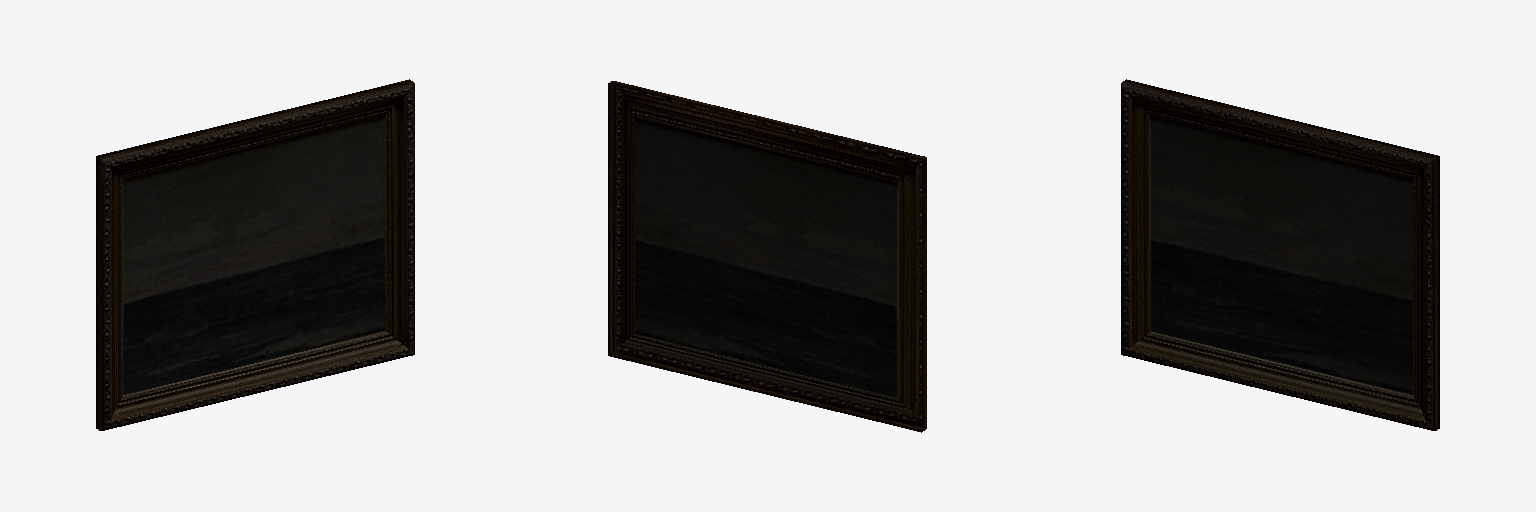
3 views of the same model, side by side, from view 1: azimuth 30°, elevation 25°; view 2: azimuth 150°, elevation 25°; view 3: azimuth 330°, elevation 25° (orthographic).
Parts seen in each view (by area): view 1: painting_4; view 2: painting_4; view 3: painting_4.
Boxes of the visible parts, x1=… form: painting_4: x1=96, y1=79, x2=414, y2=430; painting_4: x1=608, y1=81, x2=926, y2=432; painting_4: x1=1121, y1=79, x2=1439, y2=430.
Size of the model in its own units: 1.09 by 0.9 by 0.0383.
Materials: 1 (1 with a texture image).